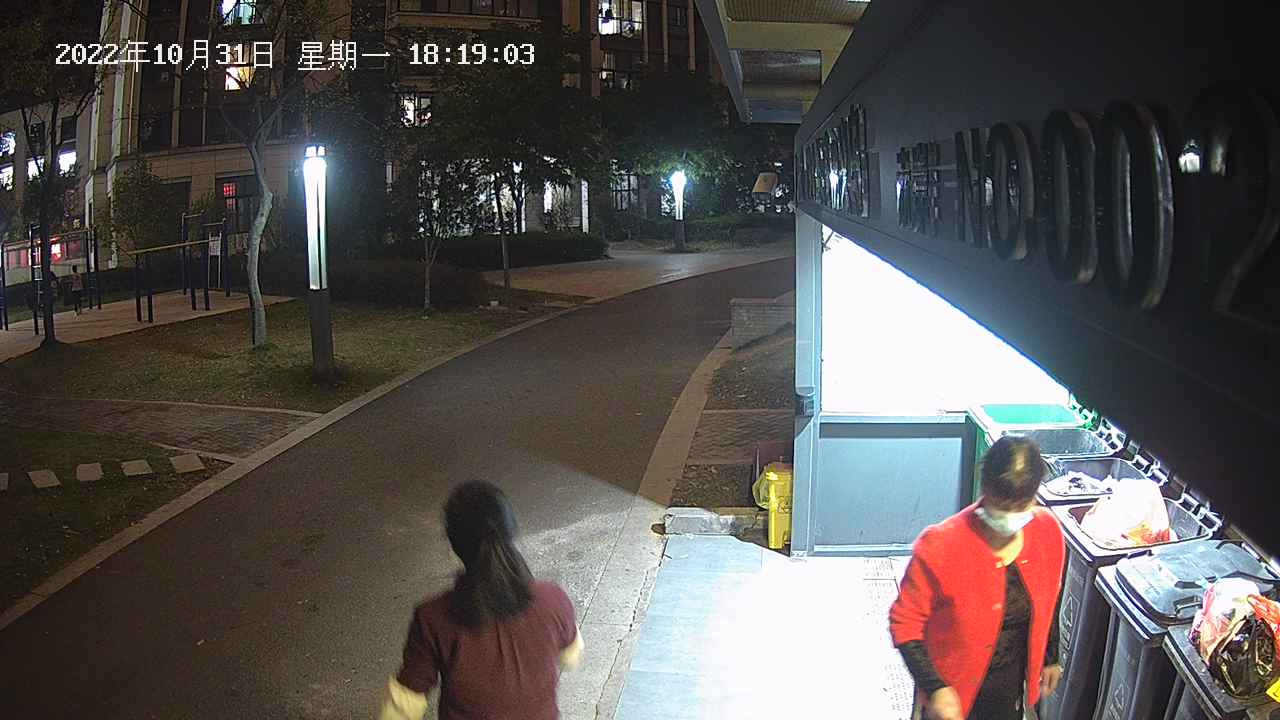person: (888, 434, 1072, 720), (376, 478, 589, 720)
